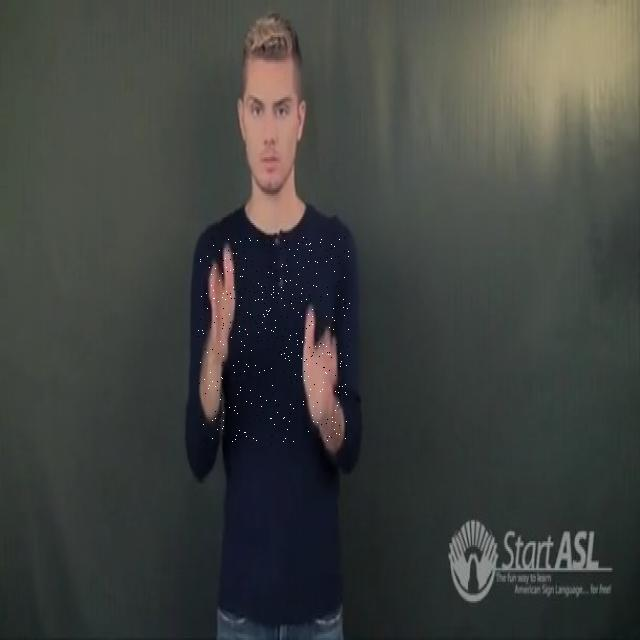manager: (198, 236, 350, 444)
